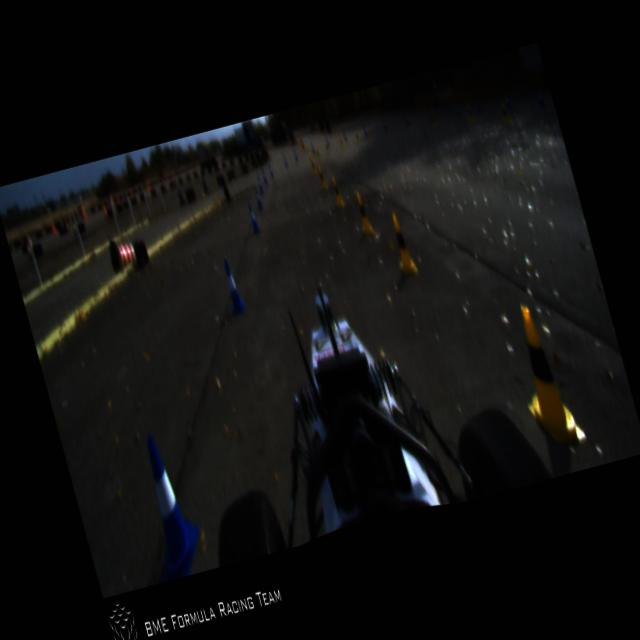blue_cone: (127, 433, 208, 581), (217, 256, 246, 314), (245, 202, 259, 231), (252, 185, 262, 208), (534, 88, 544, 110), (256, 176, 264, 194), (472, 97, 480, 113), (266, 163, 274, 179), (504, 93, 511, 109), (260, 167, 267, 183), (452, 102, 459, 115), (292, 147, 298, 160), (310, 140, 316, 153), (341, 127, 347, 140), (282, 154, 288, 166), (324, 135, 330, 146), (362, 124, 367, 136)
yellow_cone: (502, 296, 582, 452), (384, 208, 420, 282), (350, 188, 376, 237), (328, 172, 347, 210), (314, 166, 328, 190), (499, 102, 510, 124), (308, 156, 318, 176), (403, 114, 412, 133), (466, 105, 474, 124), (382, 119, 390, 135), (428, 110, 436, 126), (314, 144, 320, 160), (338, 134, 344, 148), (298, 135, 304, 148), (354, 130, 360, 142), (324, 143, 330, 154), (366, 126, 371, 138)
